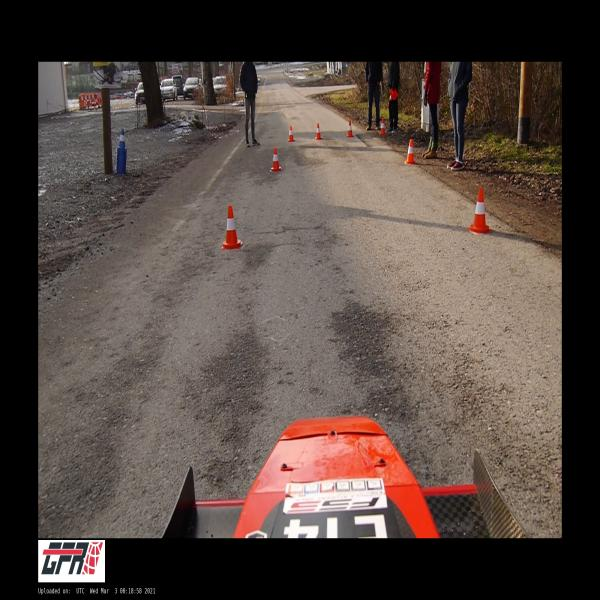blue_cone: (118, 129, 126, 149)
orange_cone: (222, 206, 242, 248), (470, 188, 489, 232), (271, 147, 281, 170), (406, 139, 415, 164), (288, 125, 295, 141), (315, 123, 322, 139), (347, 120, 353, 137), (380, 118, 385, 135)
